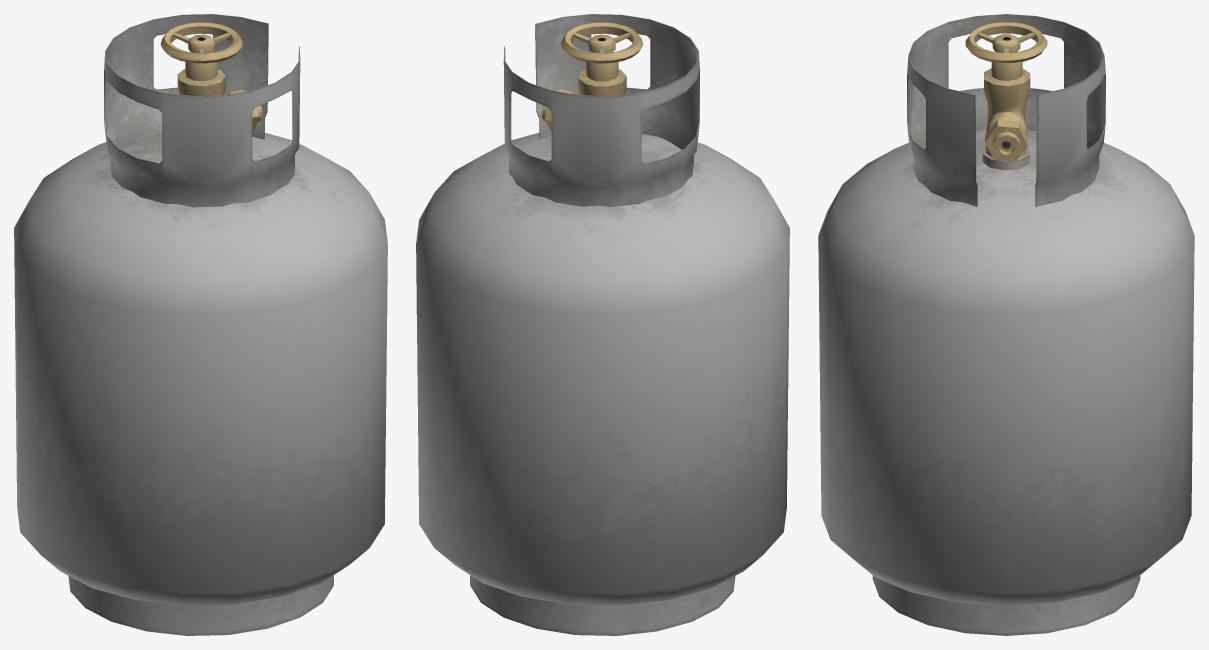
File: asset.glb
3 views of the same model, side by side, from view 1: azimuth 30°, elevation 25°; view 2: azimuth 150°, elevation 25°; view 3: azimuth 270°, elevation 25° (orthographic).
Visible parts, largest first — view 1: PropaneTank_low; view 2: PropaneTank_low; view 3: PropaneTank_low.
Boxes of the visible parts, x1=… form: PropaneTank_low: x1=14, y1=14, x2=387, y2=635; PropaneTank_low: x1=416, y1=14, x2=789, y2=635; PropaneTank_low: x1=818, y1=14, x2=1194, y2=635.
Size of the model in its own units: 28.87 by 45.89 by 28.87.
1 material, 1 textured.
